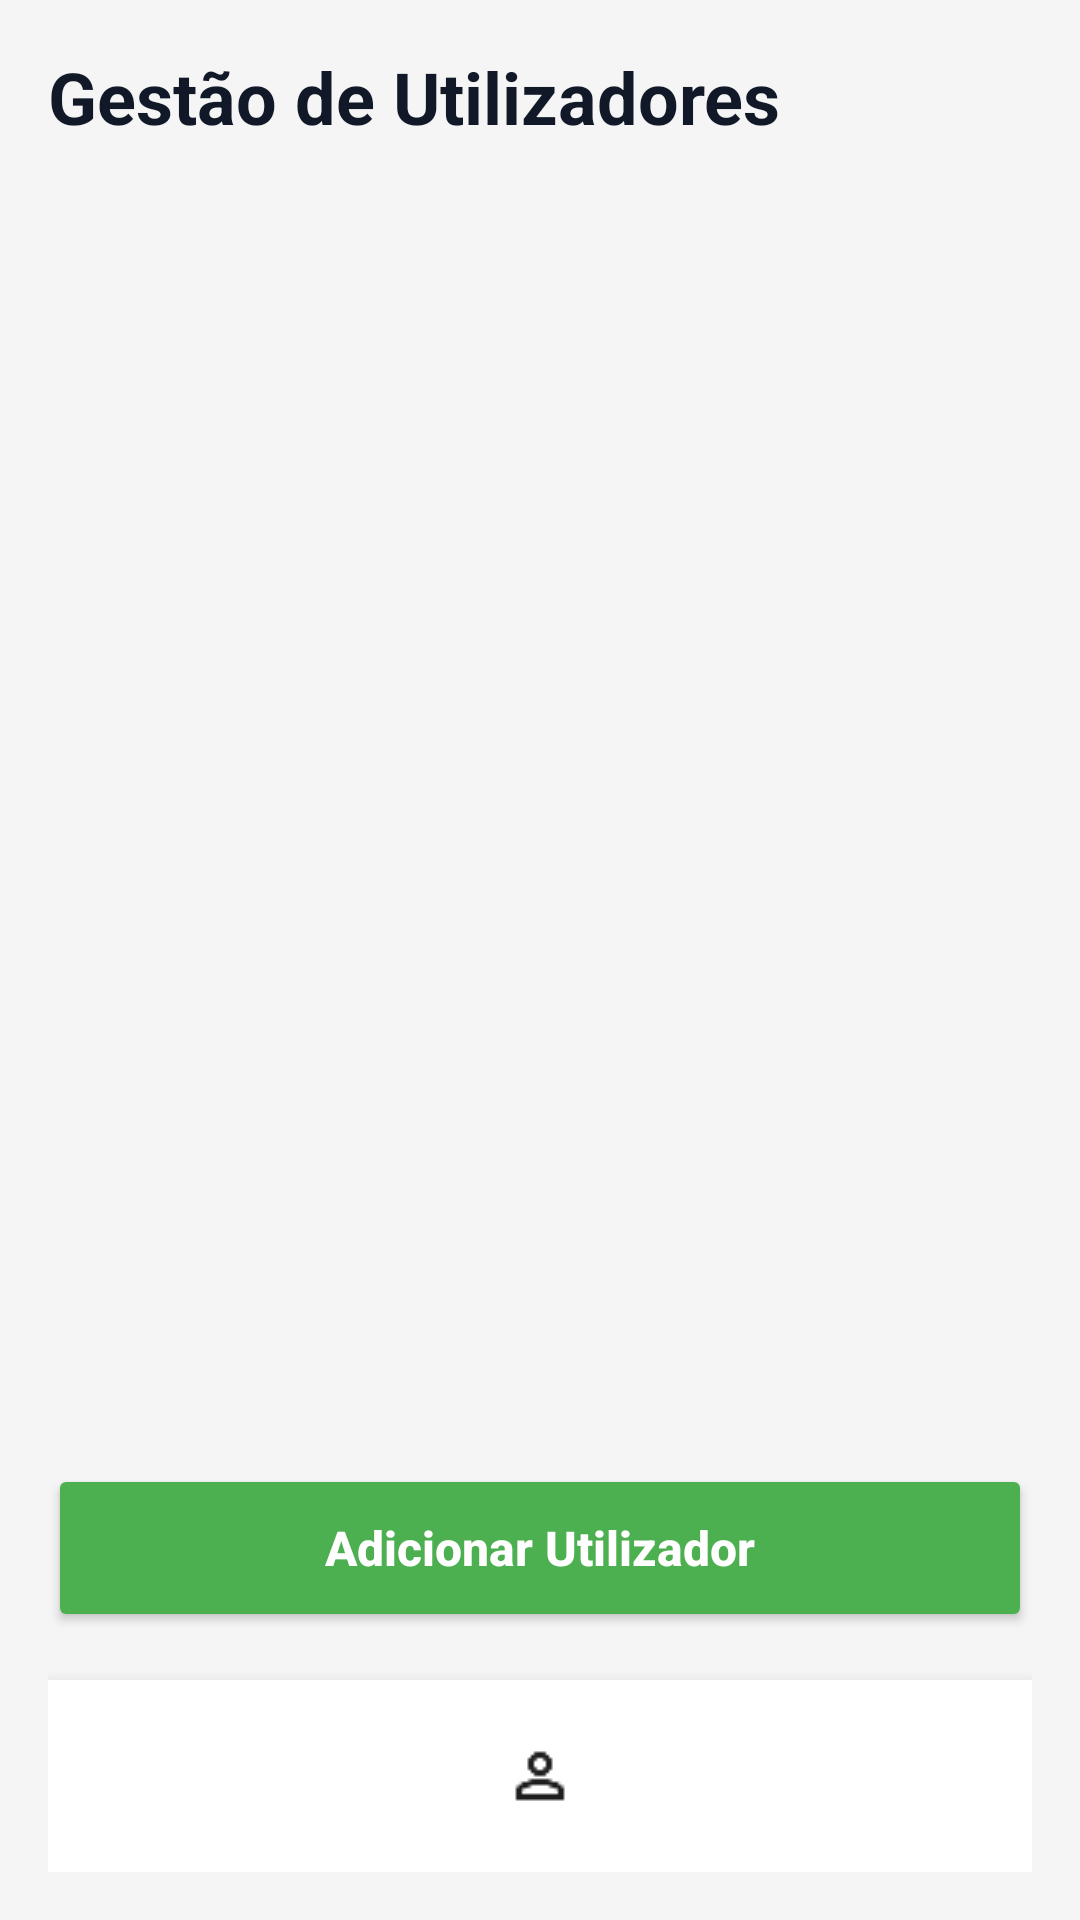

Locate icon controls on the screen. Image size 1080px×1920px, boxes as (x1, y1, x2, y2).
Perfil: (515, 1751, 565, 1801)
